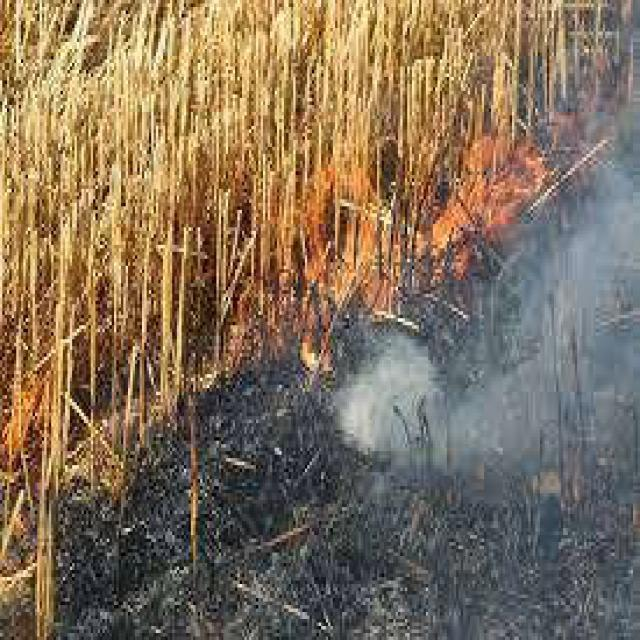Smoke: (337, 250, 640, 458)
